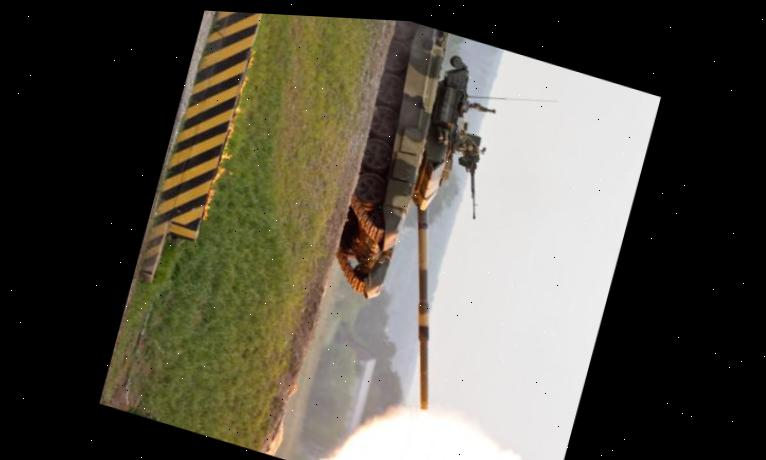tank: (299, 16, 525, 416)
